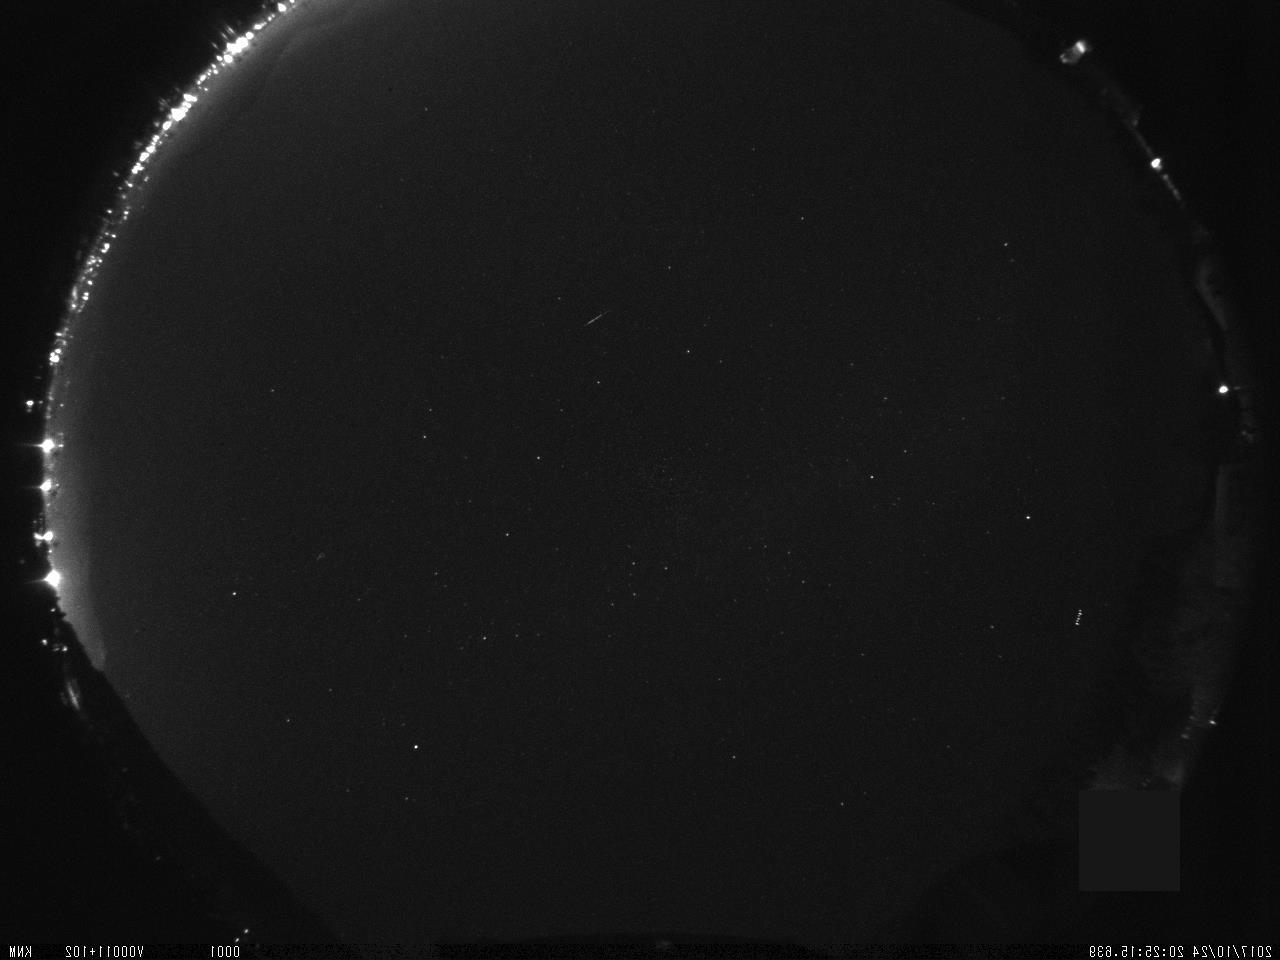meteor: (574, 303, 616, 335)
